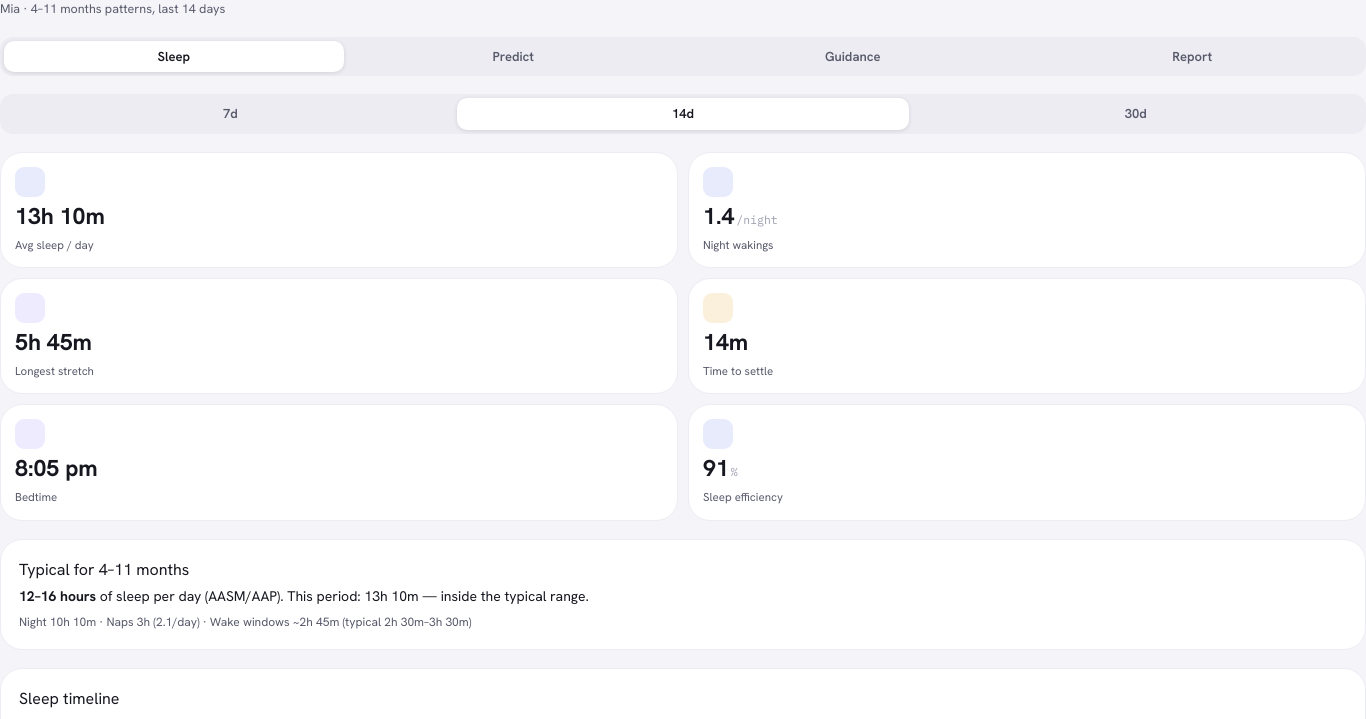
Test: InsightsScreen › Predict view shows the next-nap window and the nap-transition card
The width and height of the screenshot is (1366, 719).
expect the text "13h 10m" is shown: met, box left=15, top=201, right=105, bottom=231
Click the button "Predict": (513, 57) left=344, top=41, right=683, bottom=72
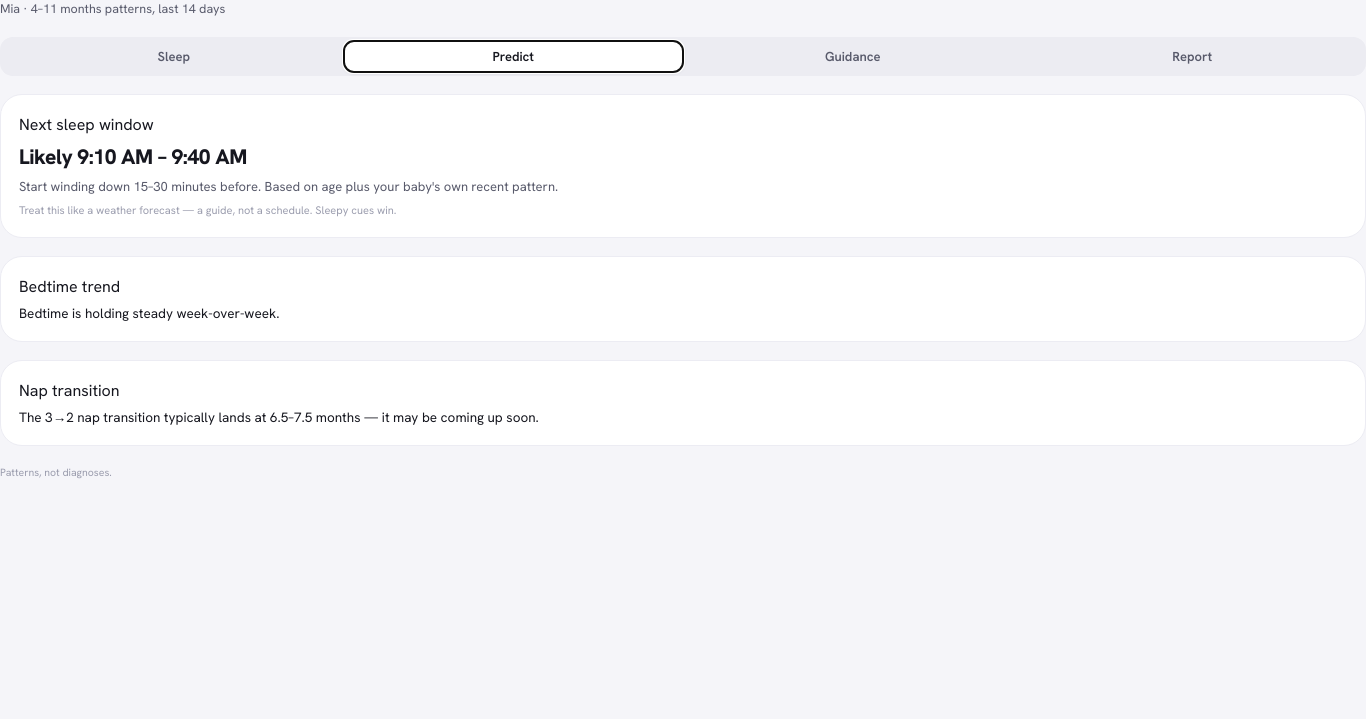
expect the text "Likely 9:10 AM – 9:40 AM" is shown: met, box left=19, top=143, right=247, bottom=170
expect the text "winding down 15–30 minutes before" is shown: met, box left=19, top=178, right=261, bottom=195
expect the text "weather forecast" is shown: met, box left=19, top=203, right=396, bottom=217
